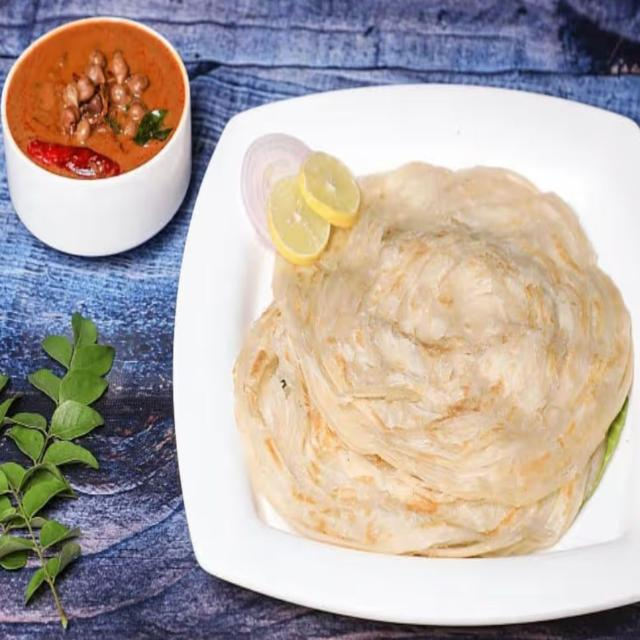KURMA: (8, 20, 181, 175)
PAROTTA: (229, 157, 635, 559)
